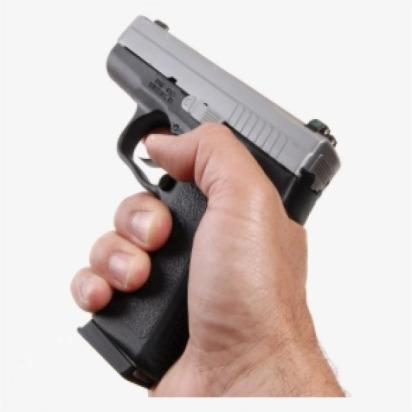Gun: (75, 13, 344, 392)
